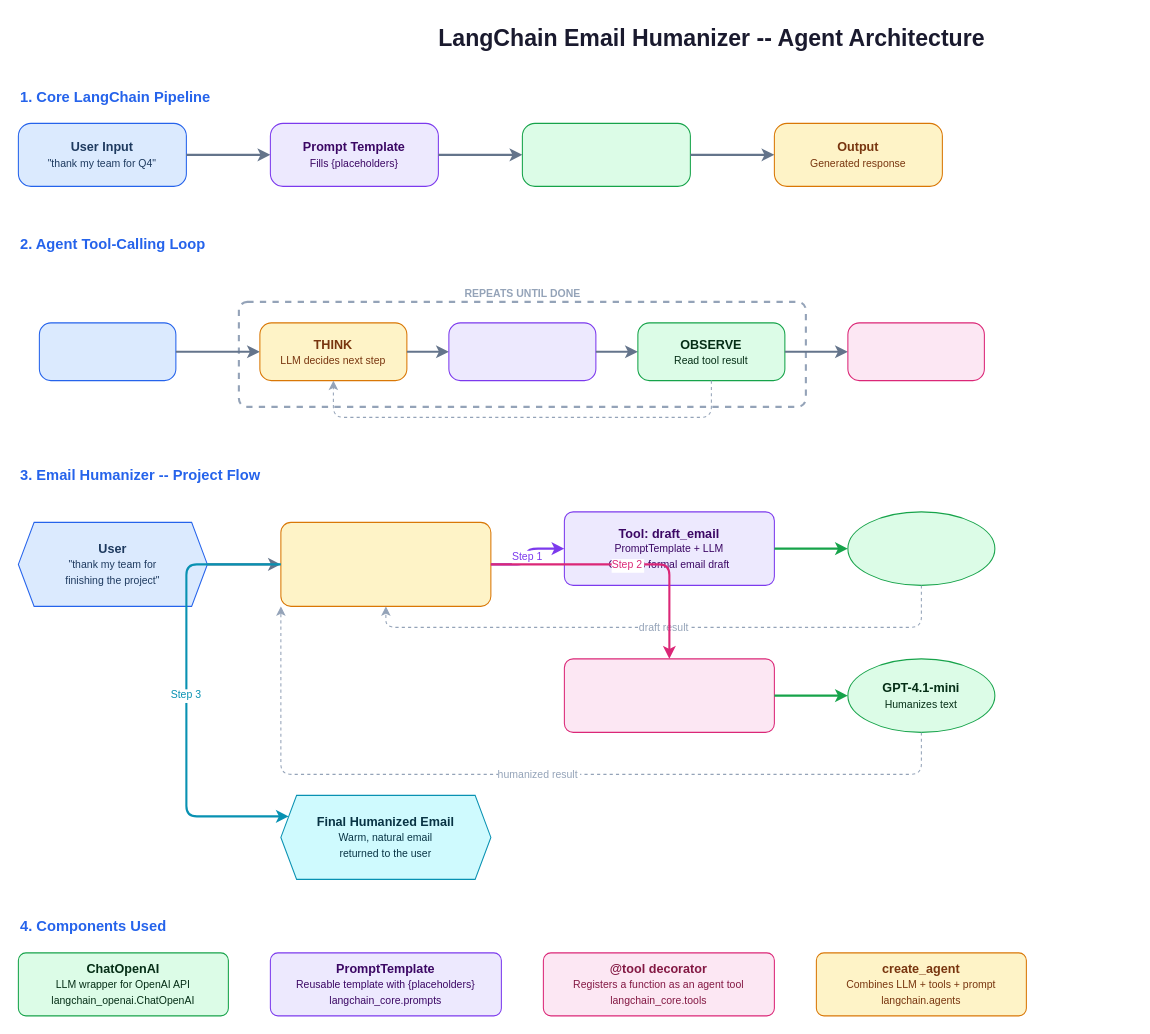
Some shapes in this 1150 by 1034 pixel diagram are drawn without their labels. Here are the shapes that lost their labels. From the top down, the centre of each, then its label:
the point at 605,154: LLM (OpenAI GPT) Generates text
the point at 107,351: RECEIVE User message
the point at 522,351: ACT Call a tool
the point at 915,351: RESPOND Final answer
the point at 385,563: Agent create_agent() LLM + Tools + System Prompt
the point at 921,548: GPT-4.1-mini Generates draft
the point at 668,695: Tool: humanize_email PromptTemplate + LLM Rewrites to sound natural
